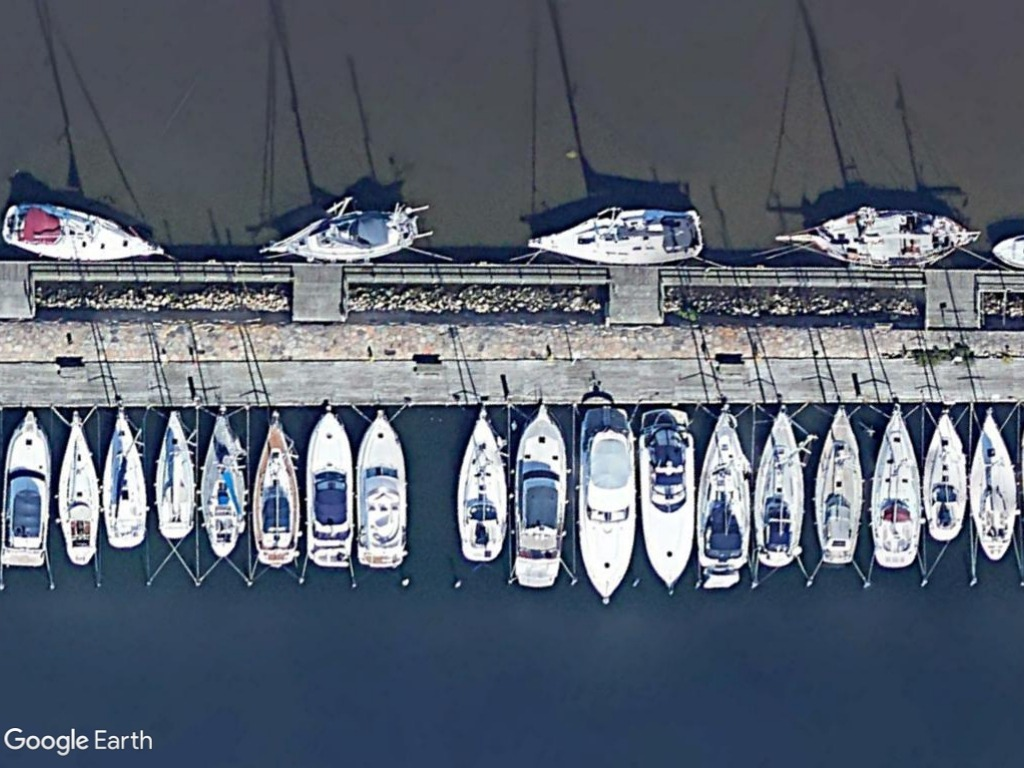boat: (772, 202, 973, 277), (571, 403, 635, 605), (1, 200, 173, 268), (520, 205, 705, 268), (635, 406, 696, 593), (509, 401, 569, 591), (860, 399, 924, 575), (747, 400, 809, 573), (693, 401, 755, 573), (299, 404, 359, 572), (450, 399, 510, 566), (0, 405, 58, 577), (255, 207, 423, 266), (809, 399, 867, 569), (962, 403, 1020, 566), (245, 411, 304, 571), (352, 408, 409, 571), (195, 407, 253, 566), (50, 407, 103, 570), (94, 406, 149, 552), (146, 408, 203, 544), (914, 399, 966, 545)
